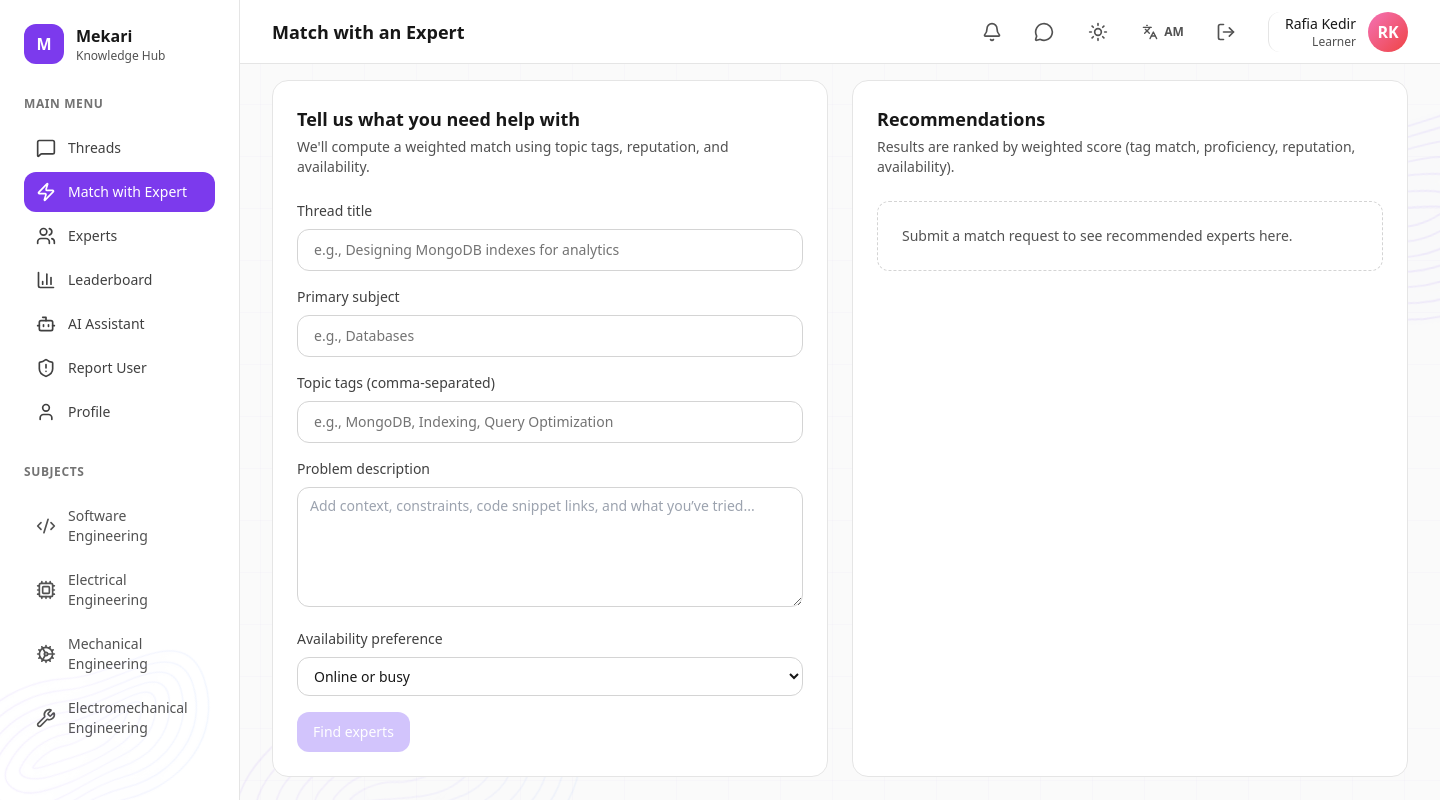
Capstone functional acceptance tests › FT-007 | FR-007 | ranks and displays at least two relevant available experts within 10 seconds
The width and height of the screenshot is (1440, 800).
Type "Slow MongoDB analytics query" into the field with placeholder "e.g., Designing MongoDB indexes for analytics".
click(550, 250); type("Slow MongoDB analytics query")  # box [297,229,803,271]
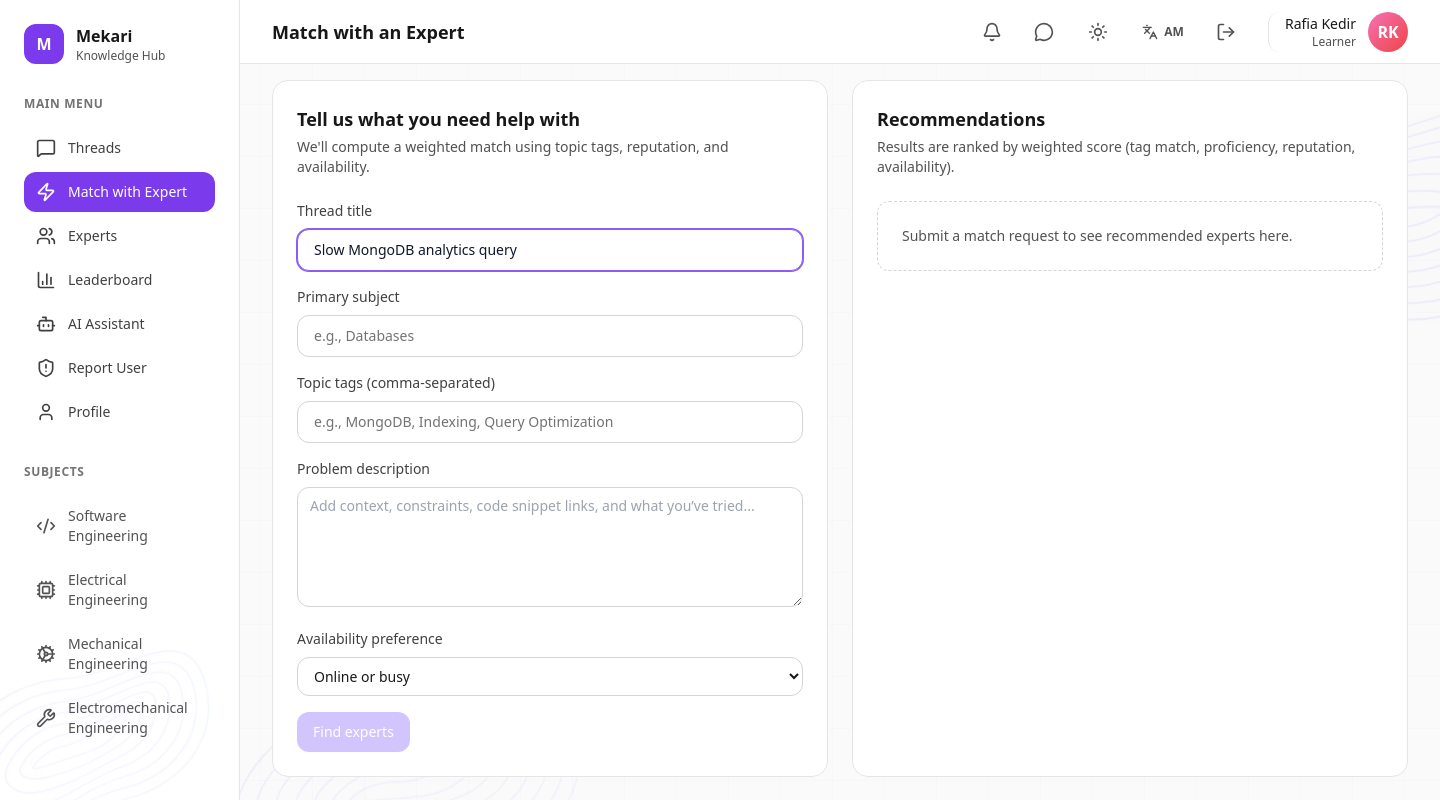
Type "Databases" into the field with placeholder "e.g., Databases".
click(550, 336); type("Databases")  # box [297,315,803,357]
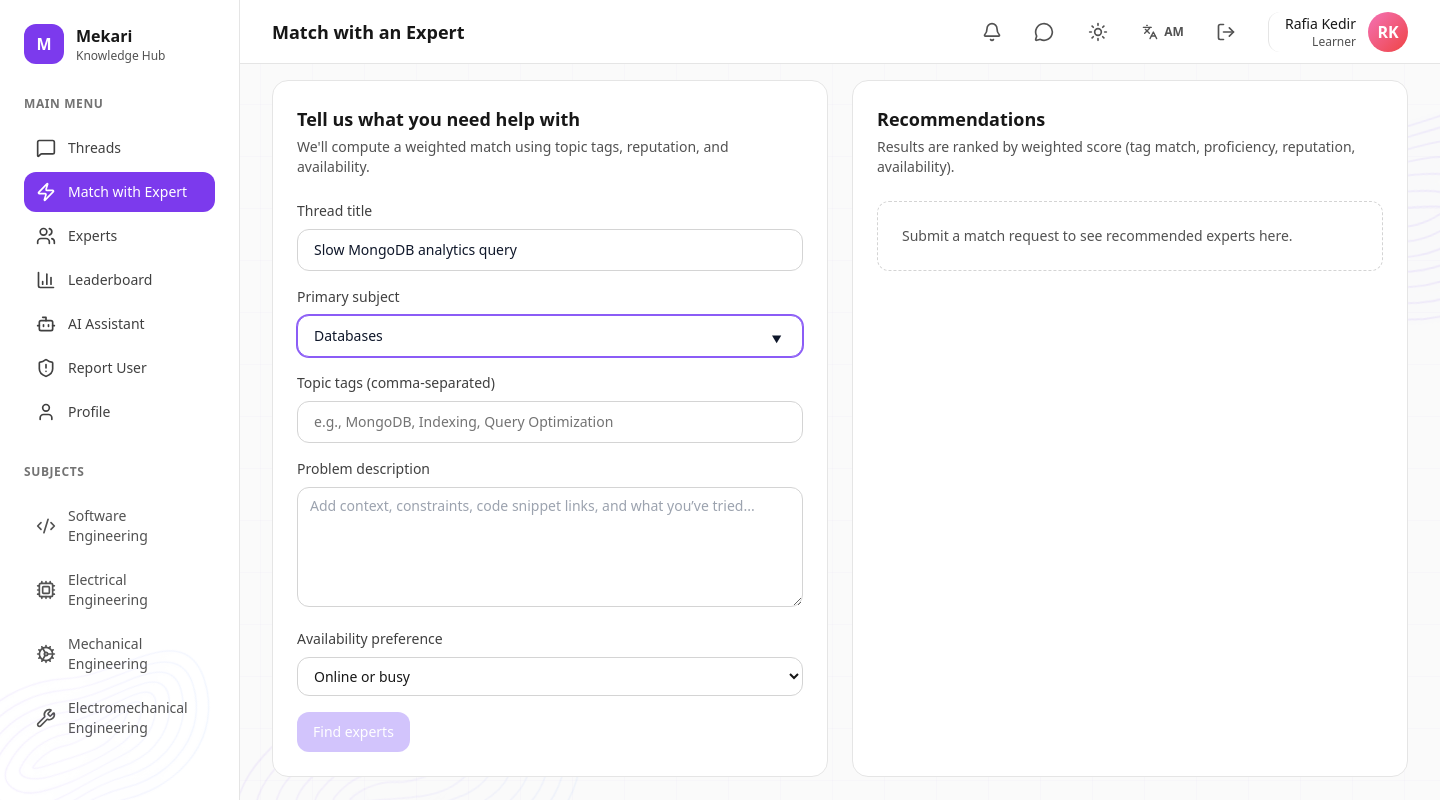
Type "mongodb, indexing, query optimization" into the field with placeholder "e.g., MongoDB, Indexing, Query Optimization".
click(550, 422); type("mongodb, indexing, query optimization")  # box [297,401,803,443]
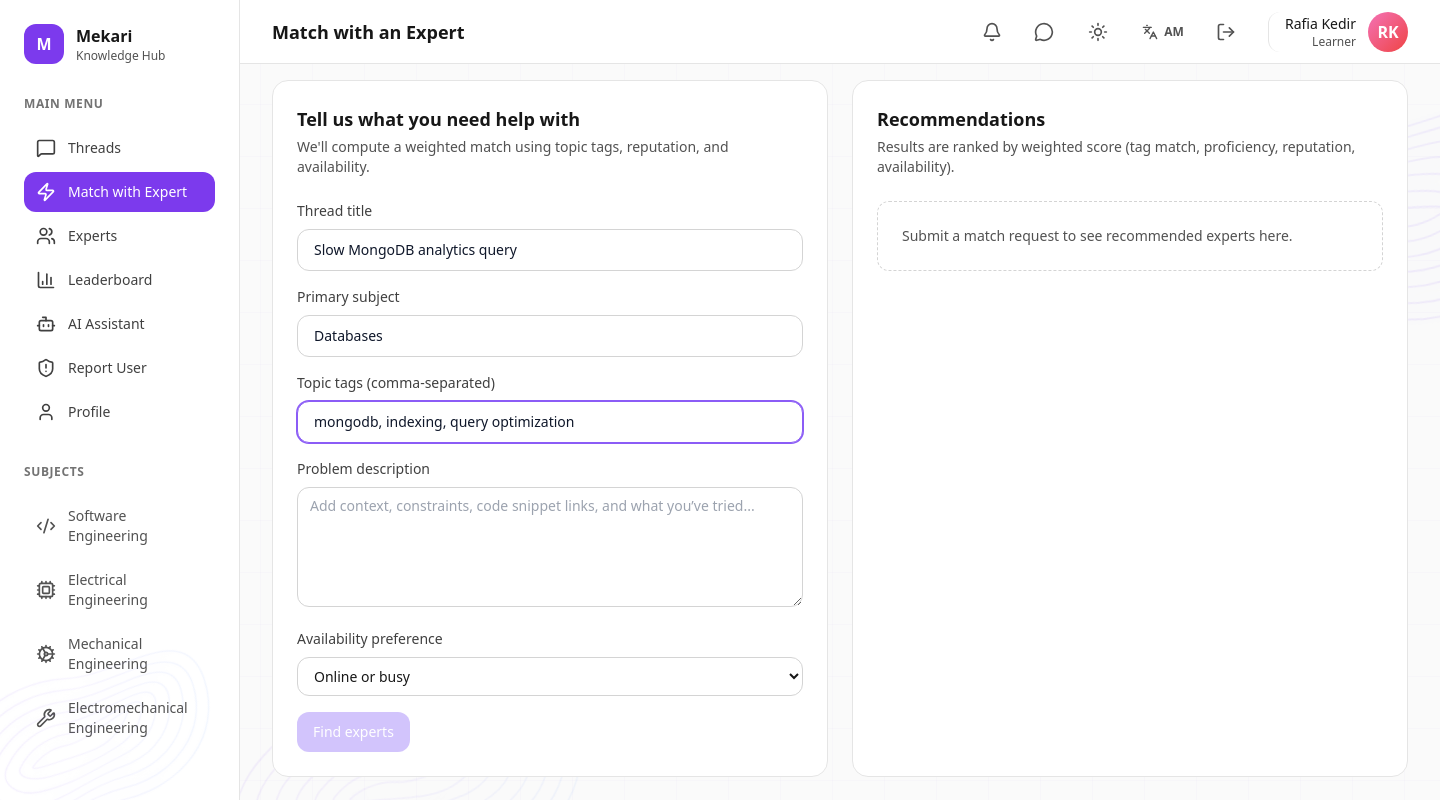
Type "Aggregation latency exceeds five seconds." into the text box.
click(550, 547); type("Aggregation latency exceeds five seconds.")  # box [297,487,803,607]
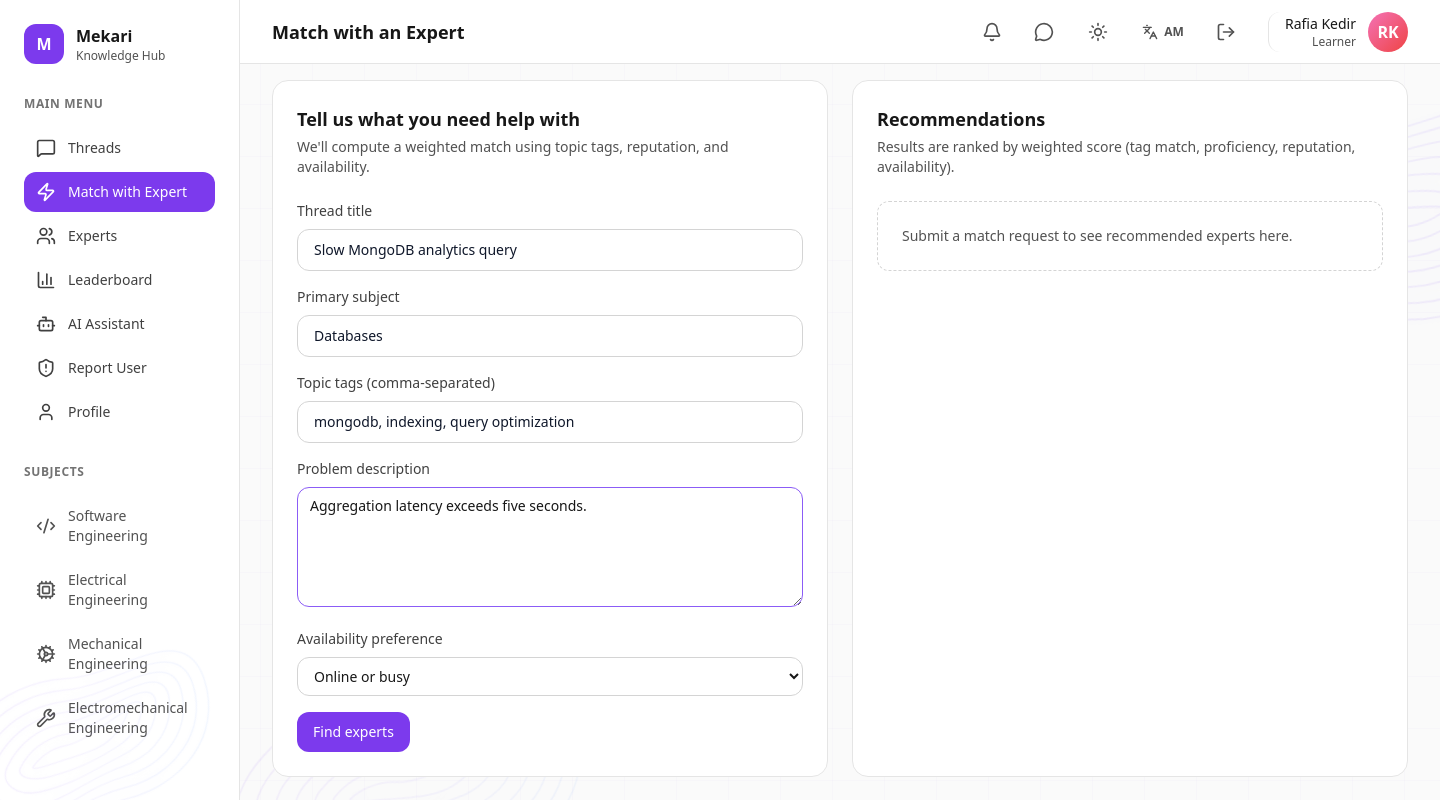
Select "Online only" in the dropdown at (550, 677), box [297,657,803,696]
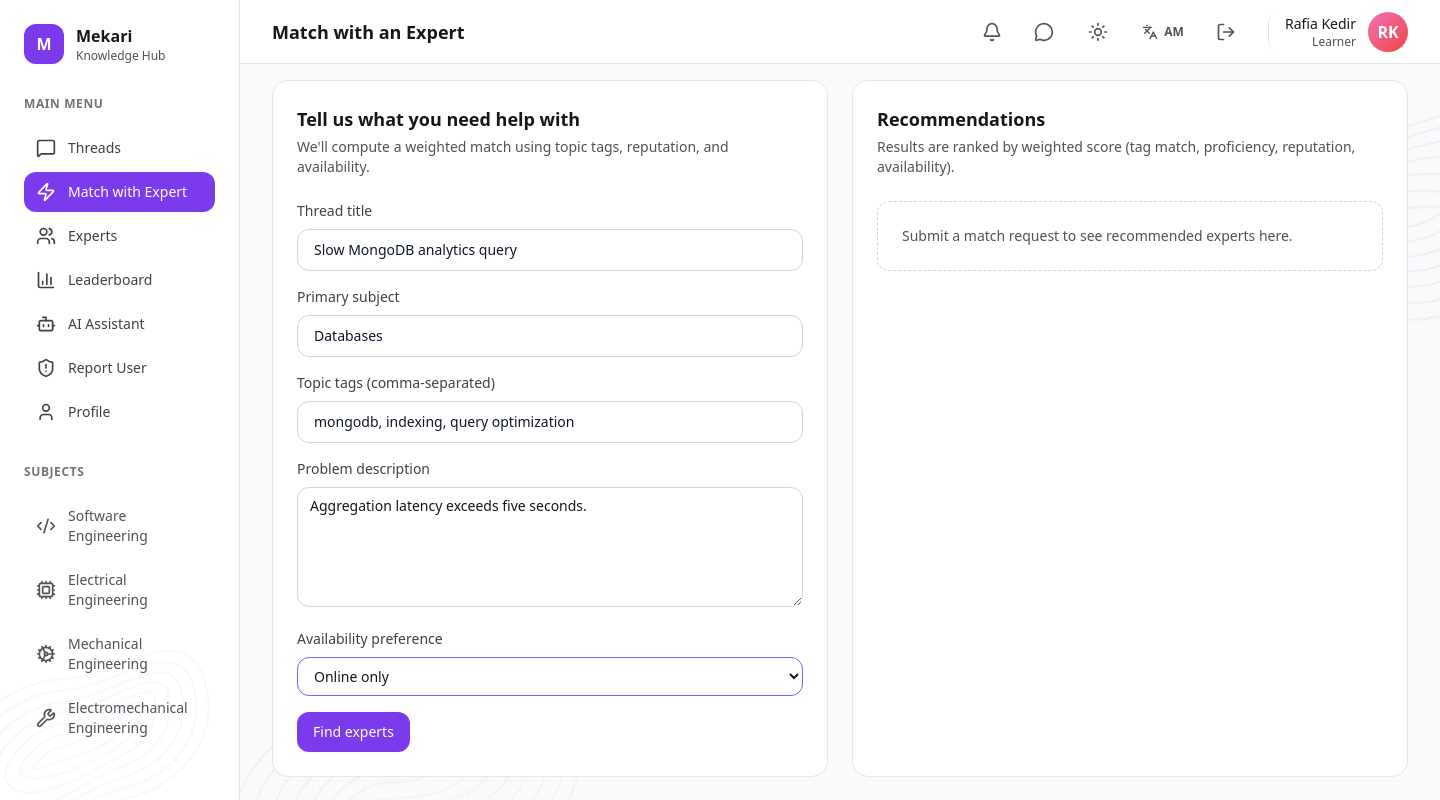
Click the button "Find experts".
click(354, 732)  # box [297,712,410,752]
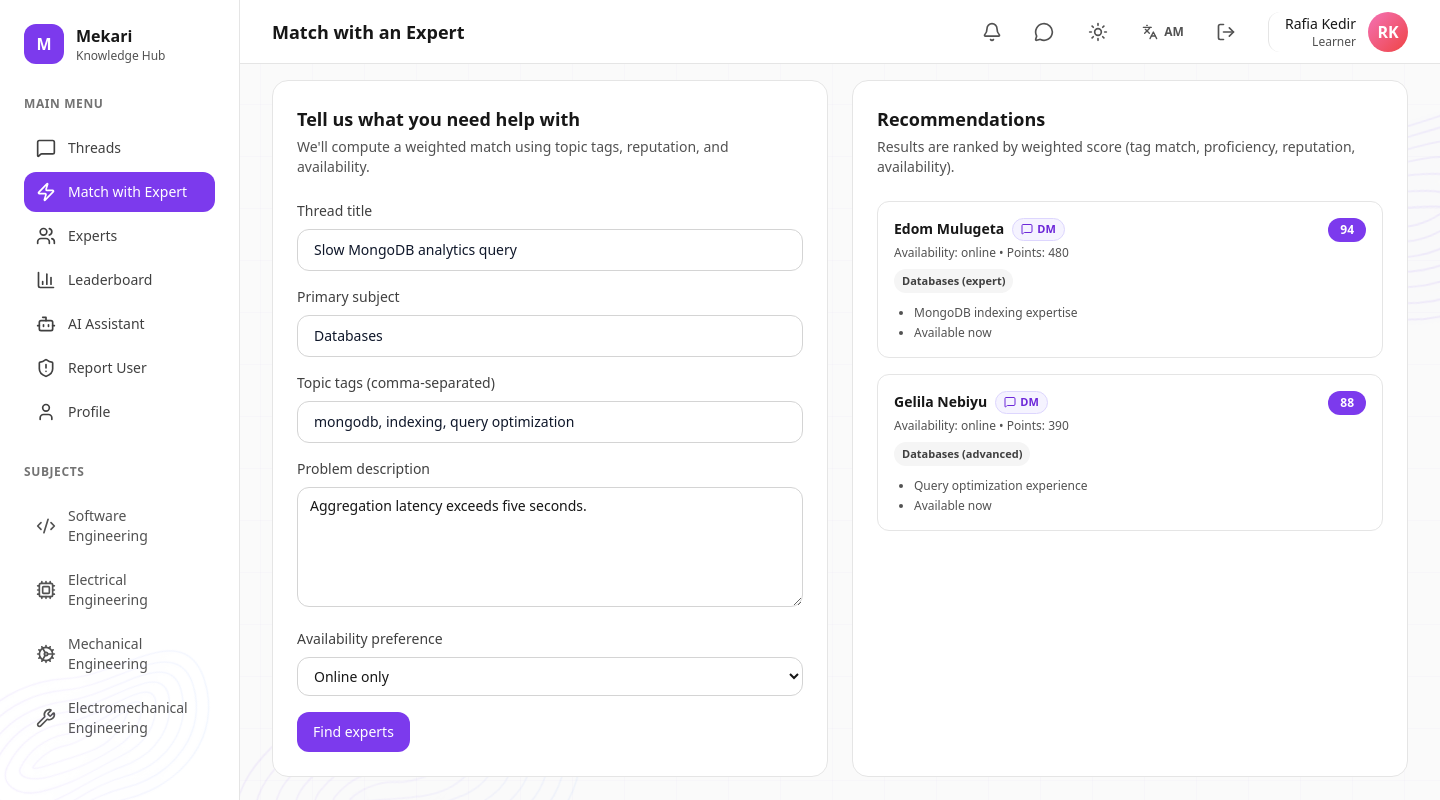
Expected: the text "Edom Mulugeta" is shown, [894,219,1004,239]
Expected: the text "Gelila Nebiyu" is shown, [894,392,987,412]
